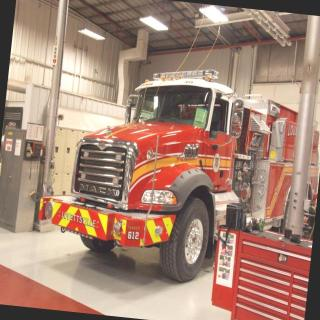Fire_truck: (33, 52, 253, 288)
